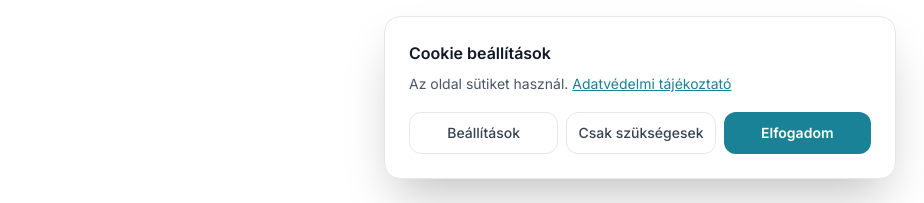
CookieConsent › "Elfogadom" stores all preferences
Click the button "Elfogadom": (797, 133) [724,112,871,154]
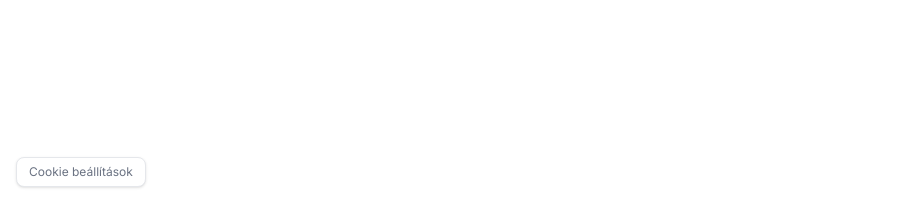
Check: the button "Elfogadom" is gone
